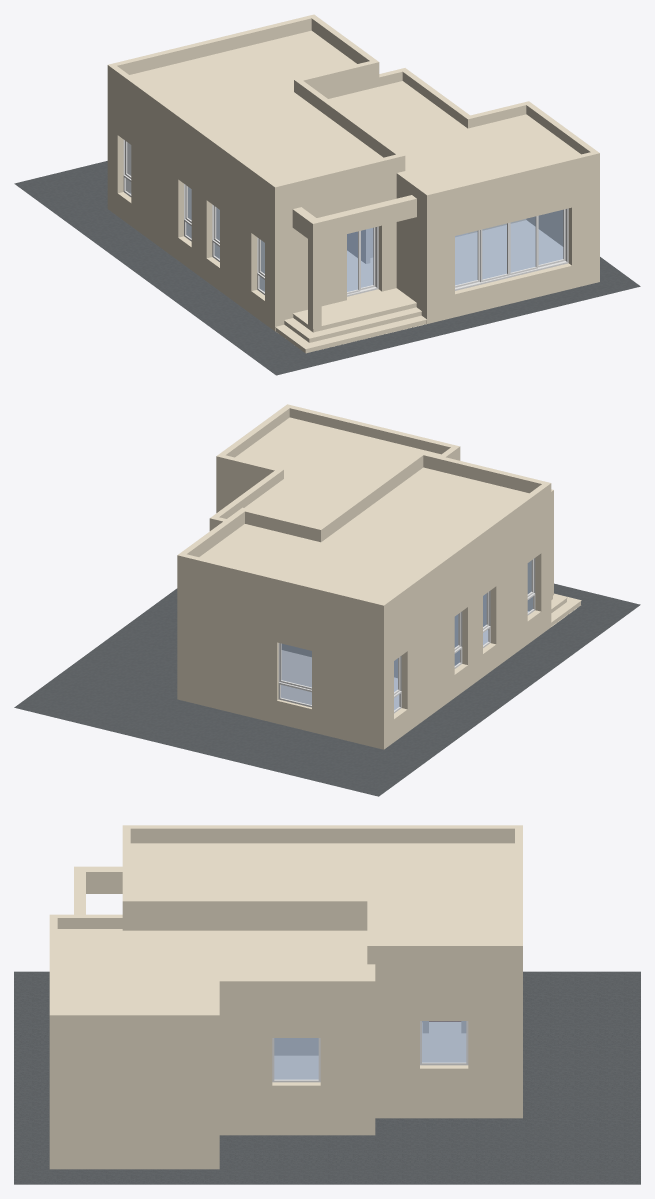
3 renders of one model, top to bottom at view 1: azimuth 30°, elevation 25°; view 2: azimuth 150°, elevation 25°; view 3: azimuth 270°, elevation 25°, orthographic. The views are drawn at different scales.
Parts seen in each view (by area): view 1: 5842, Root Node, Component#2; view 2: 5842, Root Node, Component#2; view 3: 5842, Root Node, Component#2.
Part boxes in pixels (x1,y1,x2,y2): 5842: [107, 14, 599, 353]; Root Node: [14, 161, 640, 375]; Component#2: [123, 140, 568, 296]; 5842: [177, 404, 581, 749]; Root Node: [14, 583, 640, 796]; Component#2: [278, 558, 535, 713]; 5842: [49, 825, 522, 1169]; Root Node: [14, 971, 640, 1184]; Component#2: [272, 1021, 468, 1082].
Bounding box in the file's own units: 12.45 × 4.7 × 15.5.
Materials: 5 (2 with a texture image).
